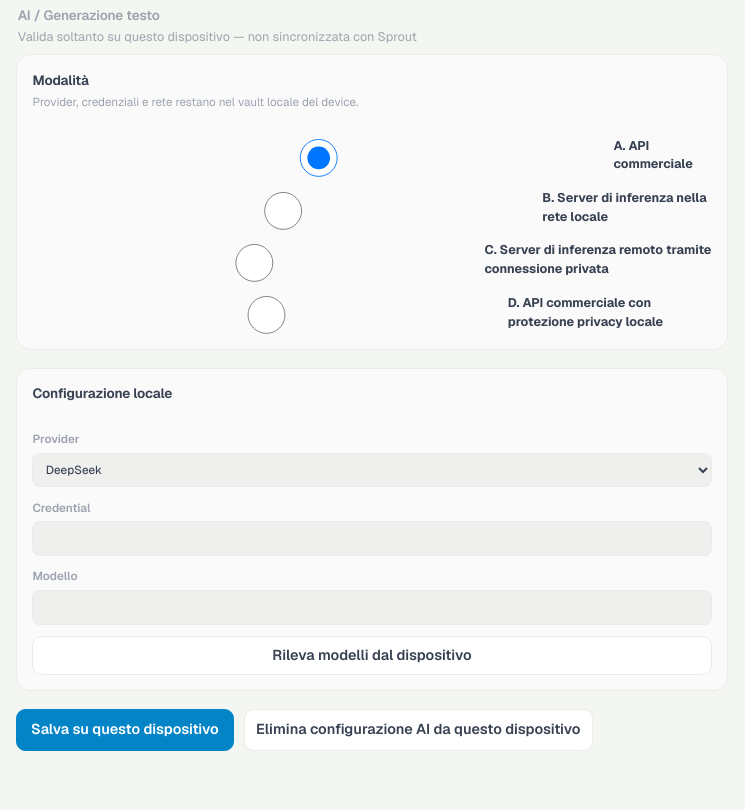
AI generation local profile screen › shows exactly four modes and the device-only notice
Expected: the text "Valida soltanto su questo dispositivo — non sincronizzata con Sprout" is shown, [18,28,417,45]
Click the radio button labelled "D. API commerciale con protezione privacy locale" at (266,315), box [37,296,496,334]
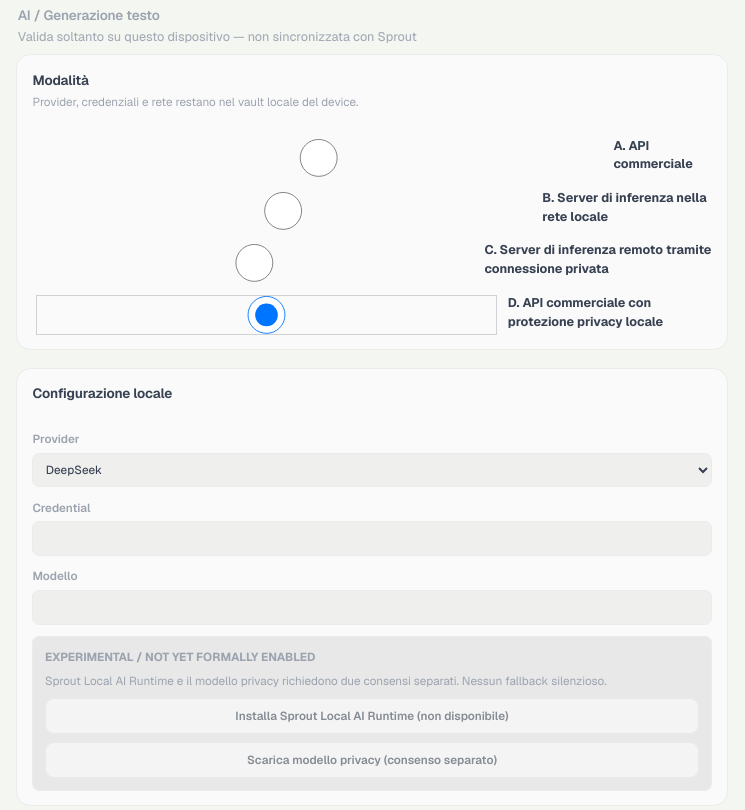
Expected: the text "EXPERIMENTAL / NOT YET FORMALLY ENABLED" is shown, [45,649,315,664]
Expected: the button "Installa Sprout Local AI Runtime (non disponibile)" is disabled, [45,698,699,734]
